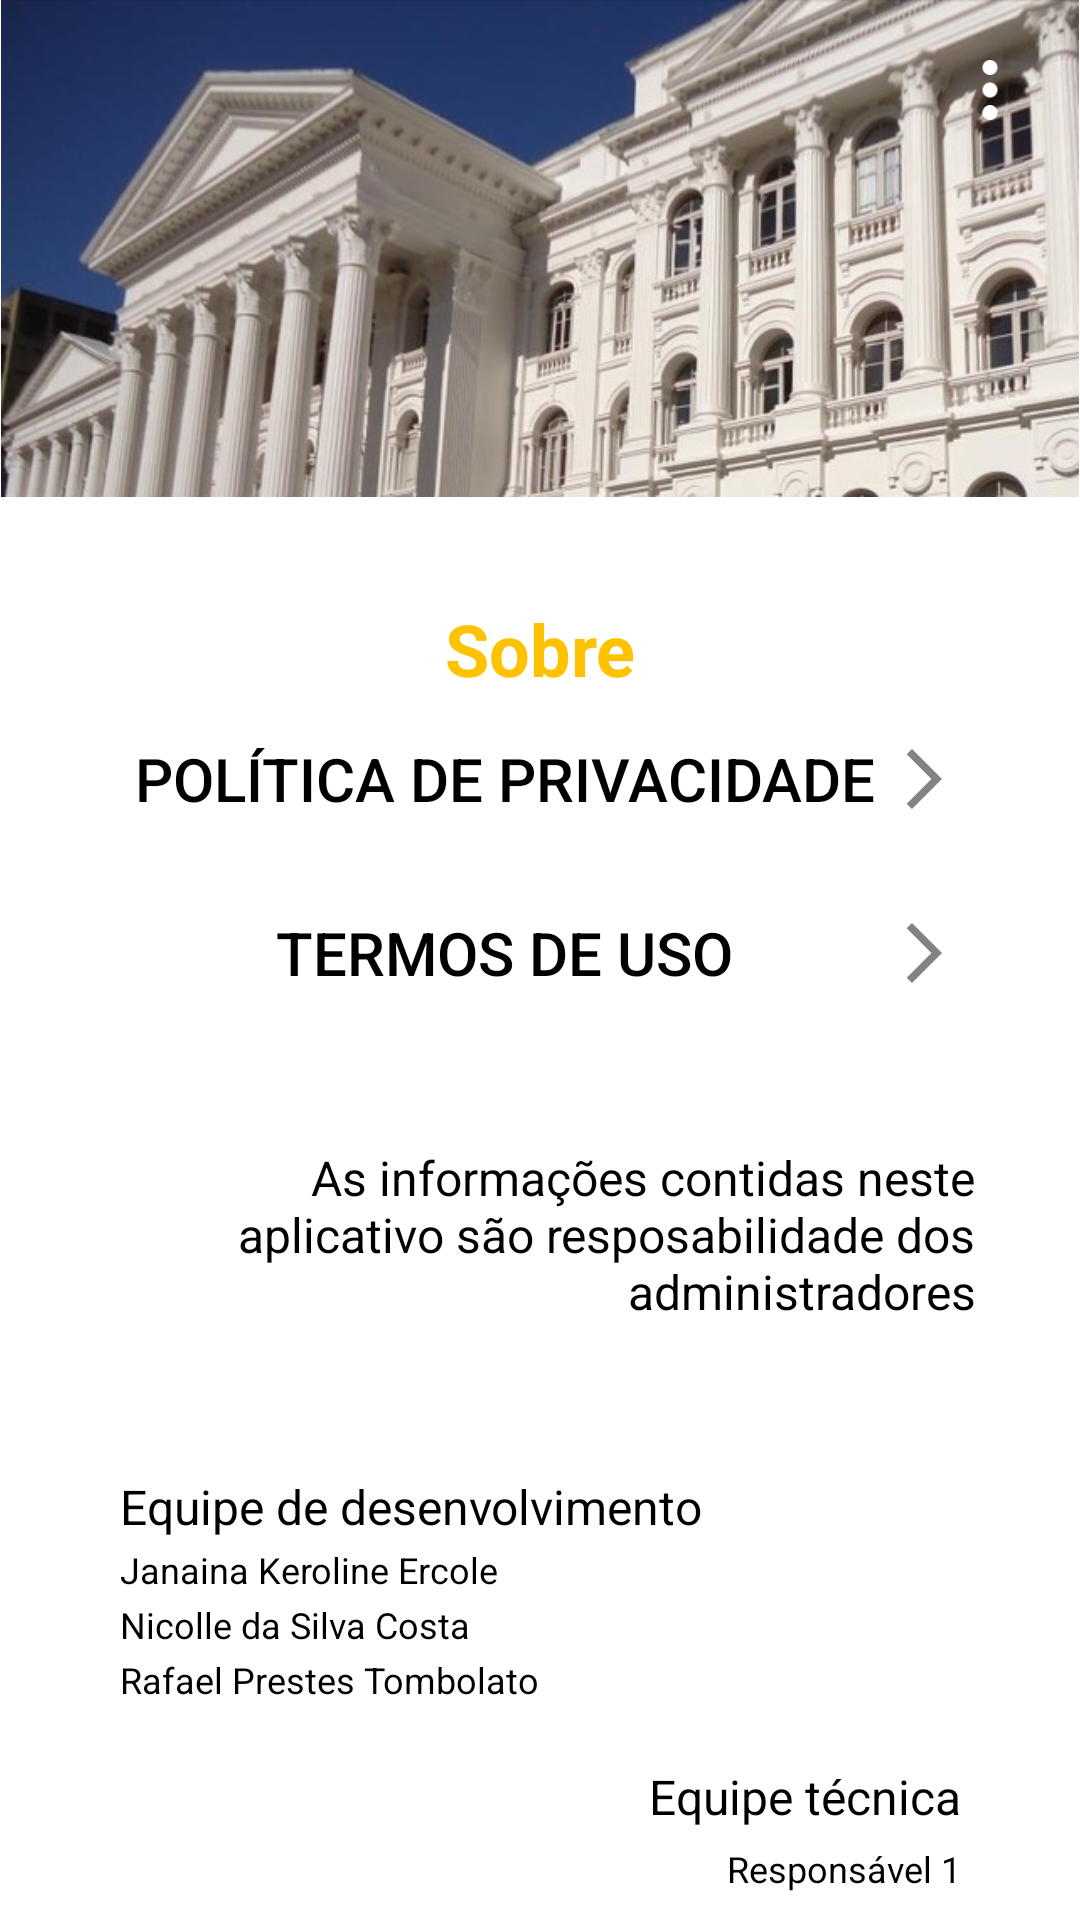

Icons on this 1080 x 1920 Android screen, each with the point to tap as (x,y):
menuopcoesbranco: (990,90)
